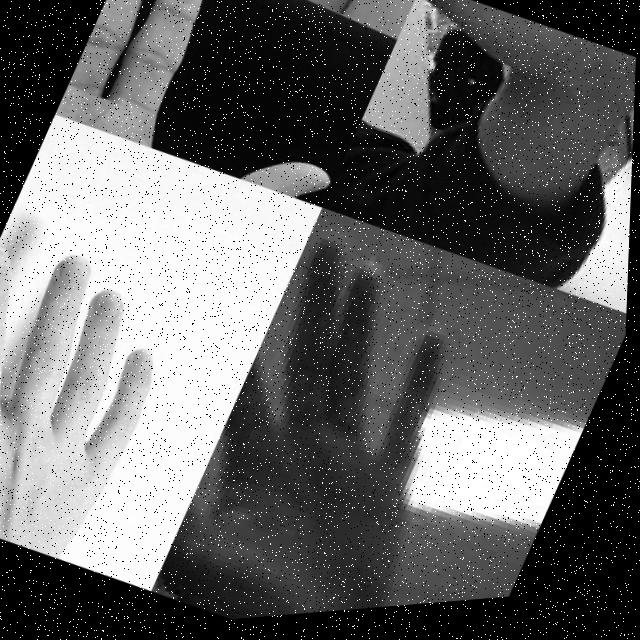hand: (153, 214, 535, 629), (338, 0, 640, 280), (51, 0, 401, 226), (0, 208, 207, 574)
